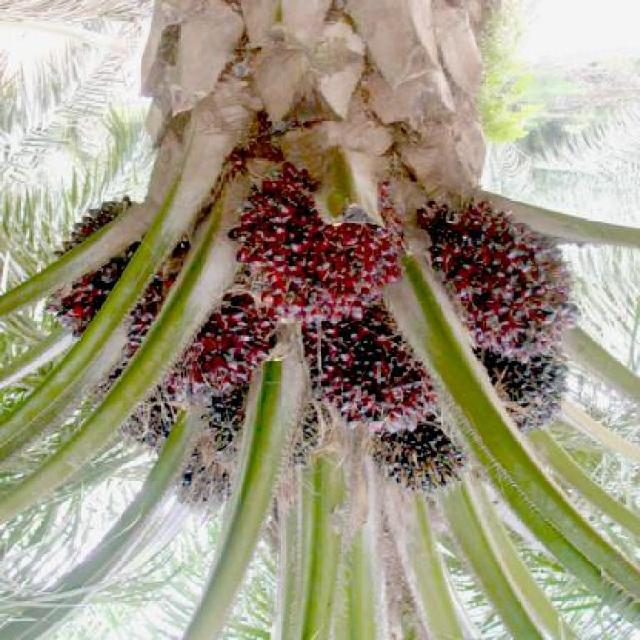palm-oil: (213, 130, 423, 337), (402, 178, 594, 370), (48, 193, 204, 351), (305, 302, 450, 443), (130, 385, 332, 473), (134, 290, 280, 399), (449, 319, 584, 428), (365, 413, 483, 502)
